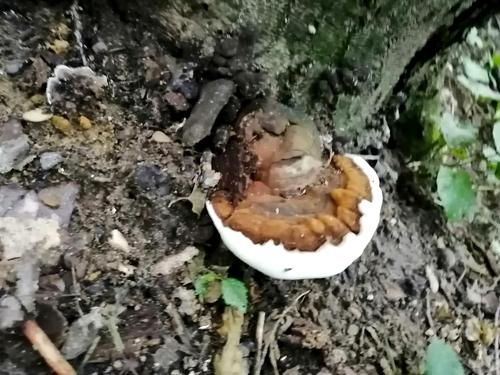Ganoderma - Fruit Body: (197, 113, 382, 278)
